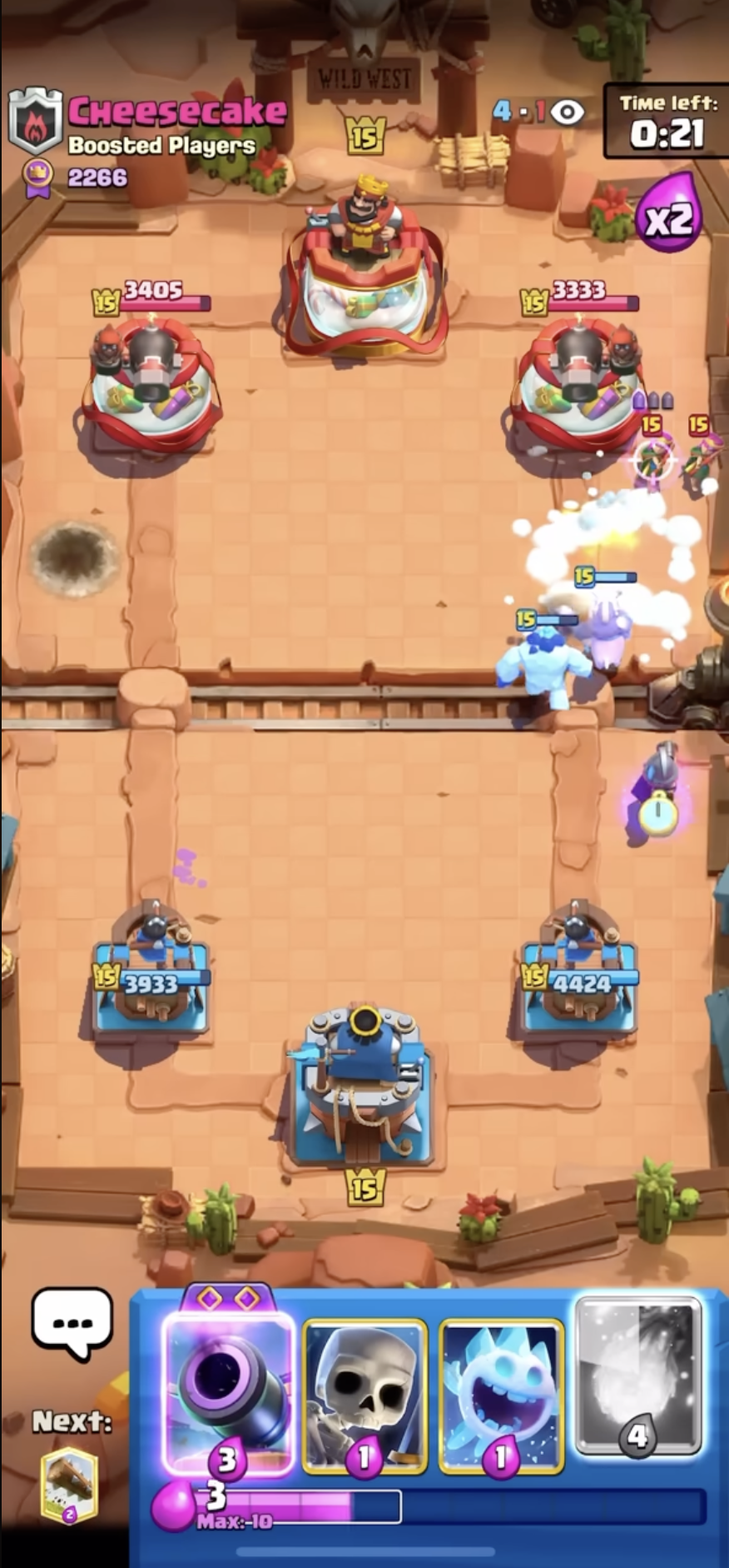evo-musketeer: (624, 733, 705, 850)
hog-rider: (563, 564, 660, 708)
ice-golem: (499, 592, 590, 734)
